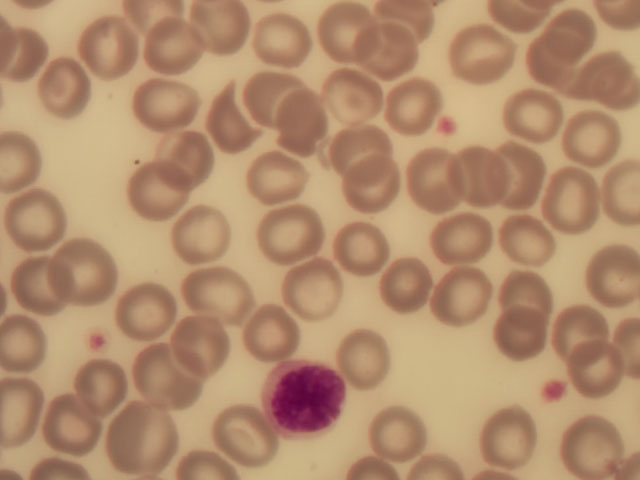Platelets: (537, 374, 568, 406), (436, 115, 465, 144), (87, 331, 109, 353)
RBC: (34, 58, 95, 123), (76, 19, 137, 84), (147, 19, 208, 84), (251, 7, 312, 72), (244, 66, 305, 131), (264, 91, 325, 156), (206, 91, 267, 156), (131, 71, 192, 136), (165, 126, 226, 191), (123, 159, 184, 224), (14, 188, 75, 253), (60, 238, 121, 303), (22, 257, 83, 322), (2, 311, 63, 376), (41, 397, 102, 462), (76, 354, 137, 419), (108, 407, 169, 472), (141, 353, 202, 418), (173, 316, 234, 381), (114, 283, 175, 348), (191, 259, 252, 324), (173, 203, 234, 268), (248, 140, 309, 205), (257, 200, 318, 265), (285, 260, 346, 325), (242, 301, 303, 366), (334, 324, 395, 389), (214, 403, 275, 468), (375, 402, 436, 467), (480, 406, 541, 471), (556, 415, 617, 480), (564, 347, 625, 412), (556, 305, 617, 370), (489, 305, 550, 370), (498, 264, 559, 329), (432, 268, 493, 333), (375, 254, 436, 319), (337, 216, 398, 281), (339, 156, 400, 221), (330, 120, 391, 185), (322, 77, 383, 142), (363, 20, 424, 85), (314, 2, 375, 67), (455, 26, 516, 91), (520, 33, 581, 98), (502, 85, 563, 150), (553, 105, 614, 170), (545, 165, 606, 230), (486, 145, 547, 210), (448, 144, 509, 209), (410, 144, 471, 209), (440, 209, 501, 274), (496, 208, 557, 273), (579, 240, 640, 305), (579, 44, 640, 109), (191, 1, 252, 64)
WBC: (263, 361, 347, 436)
